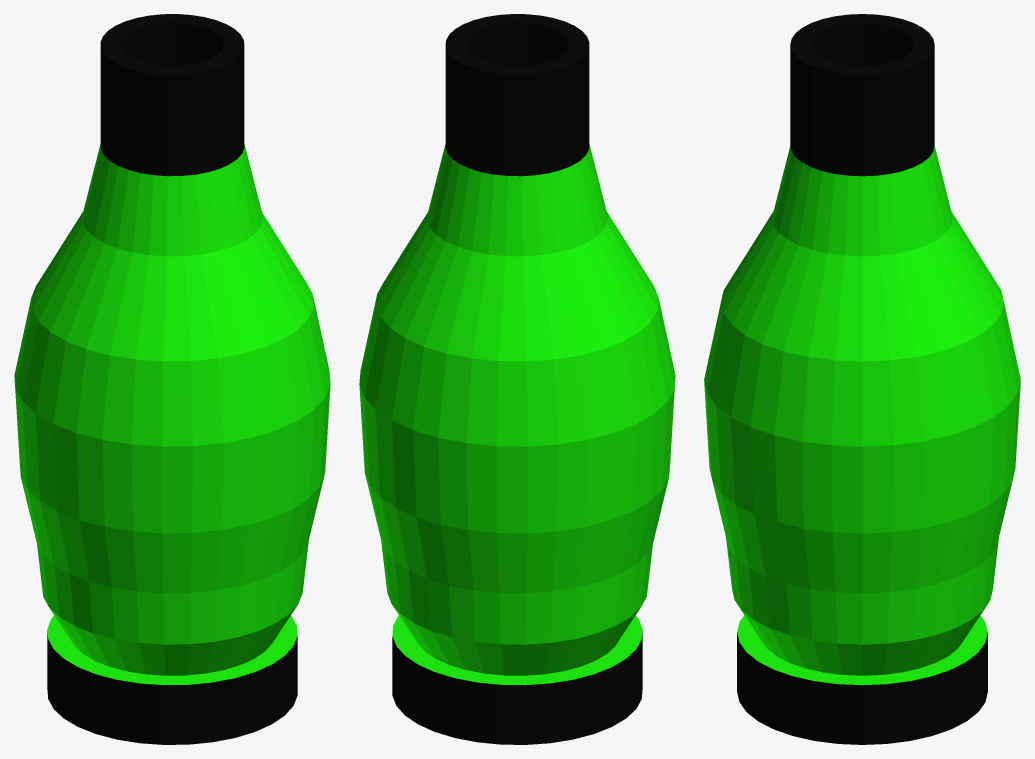
File: Potion.fbx
3 renders of one model, left to right at view 1: azimuth 30°, elevation 25°; view 2: azimuth 150°, elevation 25°; view 3: azimuth 270°, elevation 25°, orthographic.
Parts seen in each view (by area): view 1: Cylinder; view 2: Cylinder; view 3: Cylinder.
Boxes of the visible parts, <box> form: Cylinder: <box>14,14,330,744</box>; Cylinder: <box>359,14,675,744</box>; Cylinder: <box>704,14,1020,744</box>.
Size of the model in its own units: 253 by 570 by 253.
